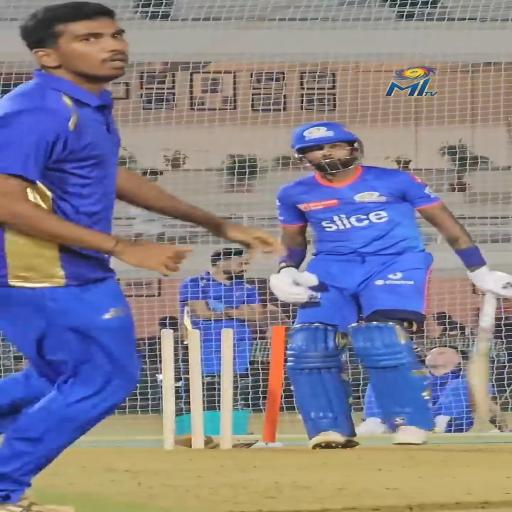Cricket bat: (466, 293, 496, 422)
